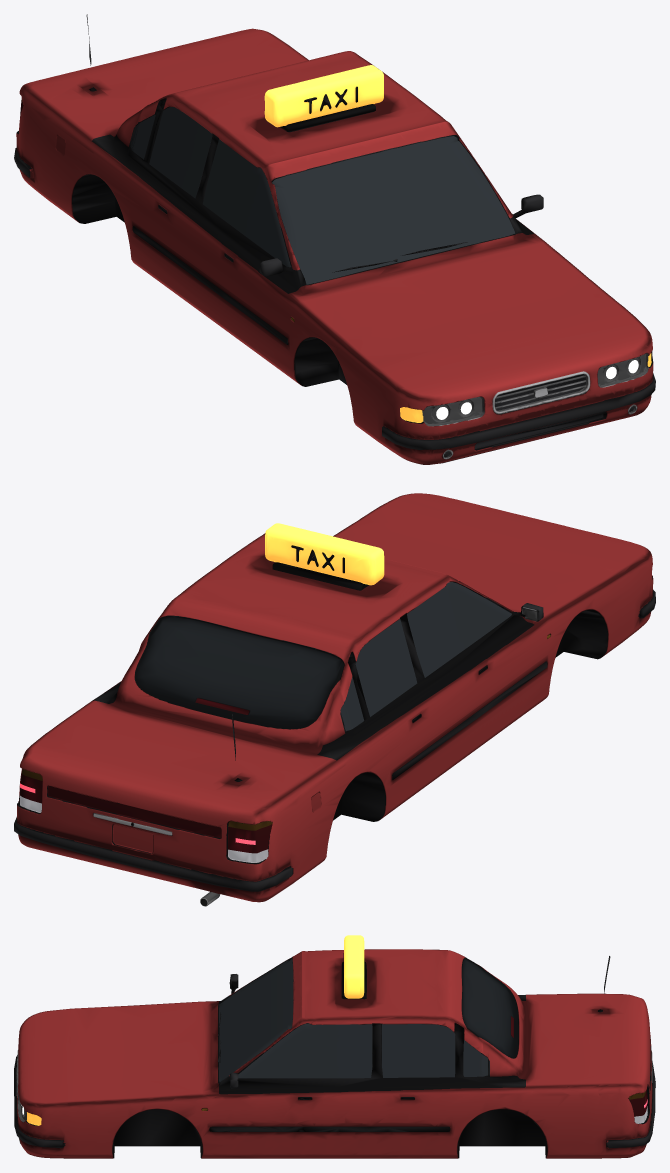
File: cabbie.m.glb
The picture shows the model from 3 angles, top to bottom: view 1: azimuth 30°, elevation 25°; view 2: azimuth 150°, elevation 25°; view 3: azimuth 270°, elevation 25°; orthographic projection. The views are drawn at different scales.
Visible parts, largest first — view 1: paint_lodm, window_lodm, trim_lodm, amber_lodm, chrome_lodm, grille_lodm; view 2: paint_lodm, trim_lodm, glass_lodm, window_lodm, amber_lodm, tail_lodm, chrome_lodm, reverse_lodm; view 3: paint_lodm, window_lodm, trim_lodm, glass_lodm, amber_lodm, tail_lodm.
Part boxes in pixels (x1,y1,x2,y2): paint_lodm: (16, 28, 653, 464); window_lodm: (130, 107, 515, 284); trim_lodm: (14, 14, 655, 464); amber_lodm: (264, 65, 651, 422); chrome_lodm: (422, 353, 648, 459); grille_lodm: (474, 374, 603, 449); paint_lodm: (17, 493, 653, 902); trim_lodm: (14, 545, 655, 891); glass_lodm: (134, 615, 344, 729); window_lodm: (340, 582, 511, 731); amber_lodm: (265, 523, 384, 585); tail_lodm: (20, 698, 272, 853); chrome_lodm: (93, 607, 537, 906); reverse_lodm: (20, 795, 268, 862); paint_lodm: (17, 949, 652, 1158); window_lodm: (219, 958, 487, 1081); trim_lodm: (14, 953, 655, 1158); glass_lodm: (461, 957, 518, 1058); amber_lodm: (26, 935, 364, 1125); tail_lodm: (511, 1016, 650, 1116).
Size of what is drawn, in the model's own units: 2.13 by 1.51 by 5.43.
